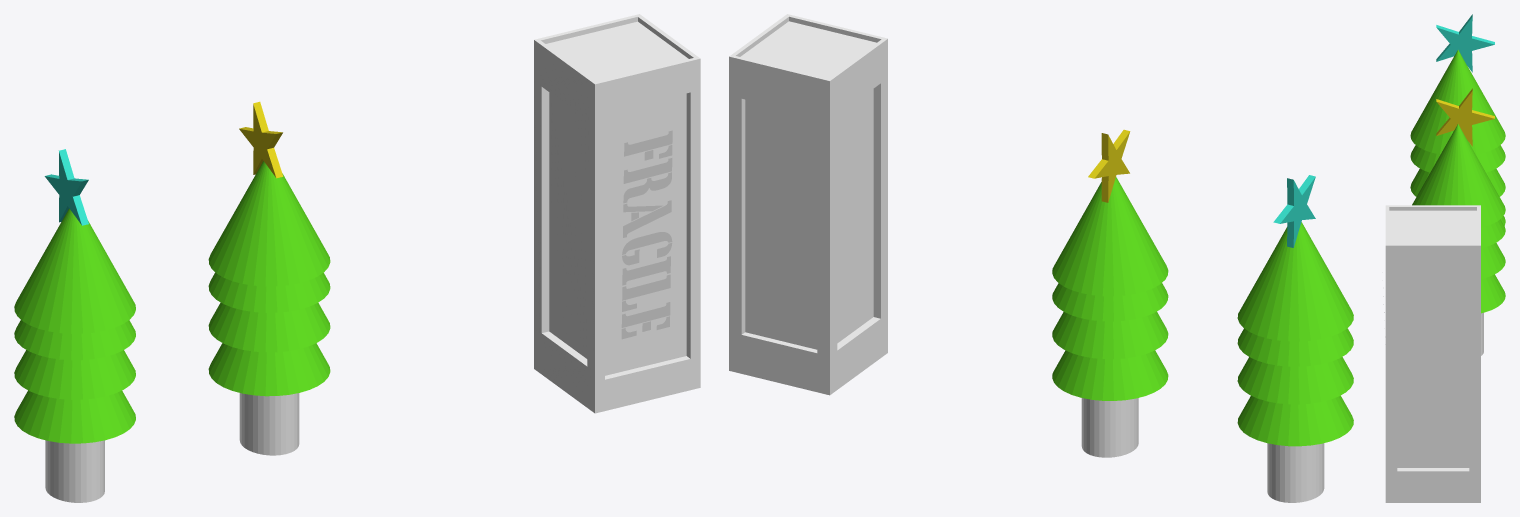
File: Project.glb
3 renders of one model, left to right at view 1: azimuth 30°, elevation 25°; view 2: azimuth 150°, elevation 25°; view 3: azimuth 270°, elevation 25°, orthographic. The views are drawn at different scales.
Parts seen in each view (by area): view 1: Cube, Cone.003, Cone.001, Text, Cone, Cone.002, Circle, Circle.001; view 2: Cube, Cone.003, Cone.001, Cone, Cone.002, Circle, Circle.001; view 3: Cube, Cone.001, Cone.003, Circle, Circle.001.
Boxes of the visible parts, x1,y1,x2,y2 form: Cube: [534, 14, 700, 413]; Cone.003: [14, 208, 135, 443]; Cone.001: [208, 161, 330, 396]; Text: [621, 130, 672, 339]; Cone: [239, 393, 299, 455]; Cone.002: [45, 440, 104, 502]; Circle: [239, 101, 283, 178]; Circle.001: [44, 149, 88, 225]; Cube: [729, 14, 887, 395]; Cone.003: [1237, 222, 1353, 446]; Cone.001: [1052, 177, 1168, 400]; Cone: [1081, 398, 1138, 457]; Cone.002: [1267, 443, 1324, 502]; Circle: [1088, 129, 1130, 202]; Circle.001: [1273, 175, 1315, 247]; Cube: [1385, 205, 1480, 502]; Cone.001: [1412, 124, 1505, 313]; Cone.003: [1410, 50, 1505, 225]; Circle: [1436, 88, 1494, 146]; Circle.001: [1436, 14, 1494, 72].
Bounding box in the file's own units: 11.97 × 6.14 × 2.59.
